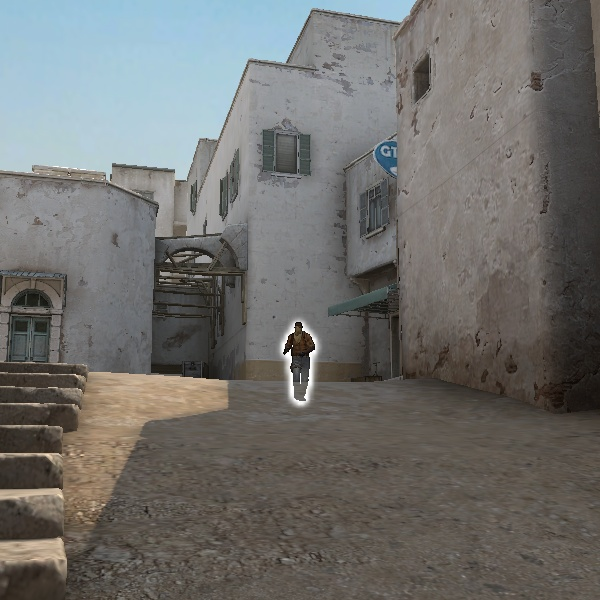t_body: (283, 323, 315, 400)
t_head: (294, 322, 303, 335)
